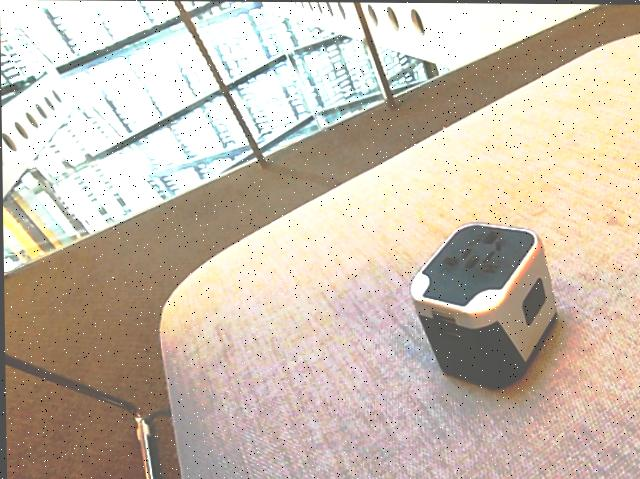adapter: (408, 219, 557, 388)
